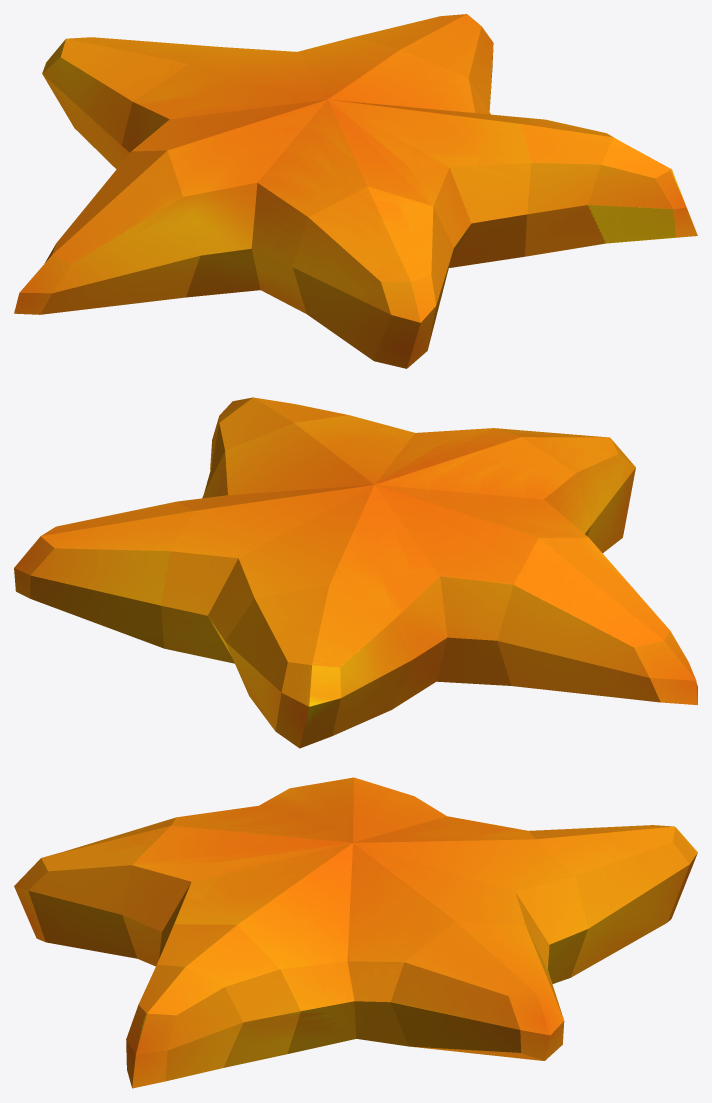
The model's file is starfish3.glb.
3 views of the same model, one above another, from view 1: azimuth 30°, elevation 25°; view 2: azimuth 150°, elevation 25°; view 3: azimuth 270°, elevation 25° (orthographic). The views are drawn at different scales.
Parts seen in each view (by area): view 1: starfish 3; view 2: starfish 3; view 3: starfish 3.
Boxes of the visible parts, x1,y1,x2,y2 form: starfish 3: (14, 14, 697, 368); starfish 3: (14, 397, 697, 748); starfish 3: (14, 777, 697, 1088).
Size of the model in its own units: 1.6 by 0.4068 by 1.65.
Materials: 1 (1 with a texture image).
